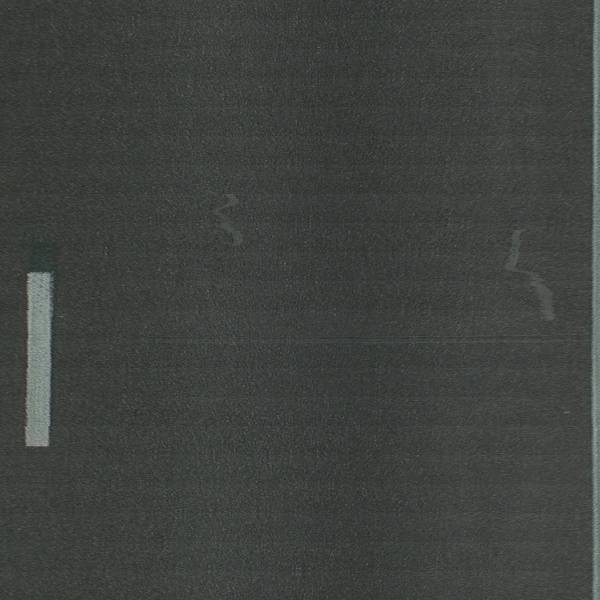road_damage: (499, 224, 561, 330), (211, 191, 252, 254)
